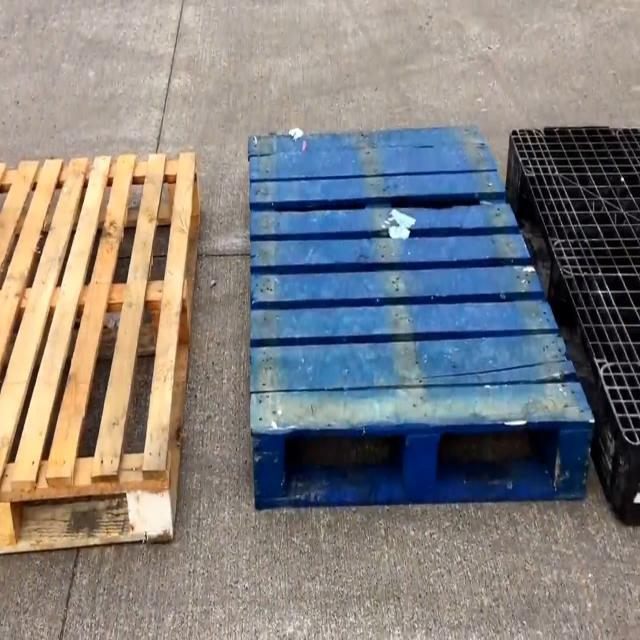Palette: (243, 113, 598, 502), (0, 132, 205, 557), (506, 114, 640, 535)
